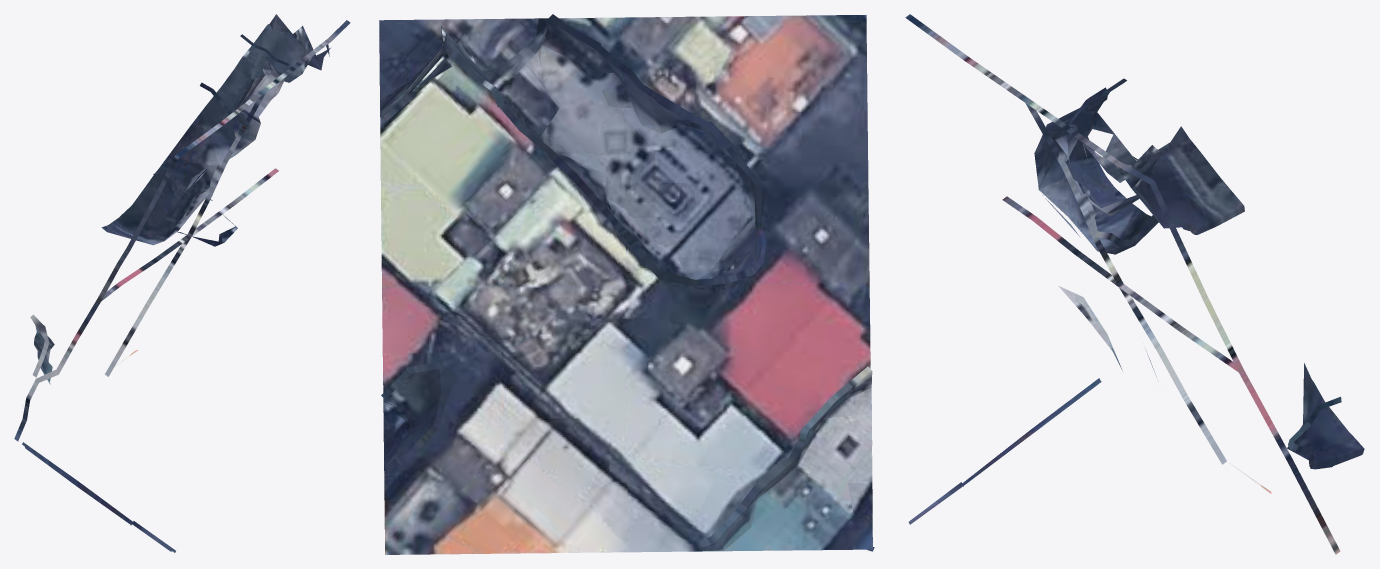
3 renders of one model, left to right at view 1: azimuth 30°, elevation 25°; view 2: azimuth 150°, elevation 25°; view 3: azimuth 270°, elevation 25°, orthographic. The views are drawn at different scales.
Size of the model in its own units: 38.86 by 44.61 by 34.3.
Materials: 1 (1 with a texture image).
